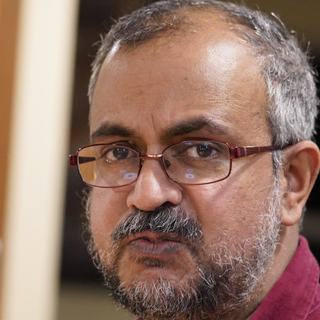eye: (178, 139, 225, 162), (98, 141, 142, 165)
